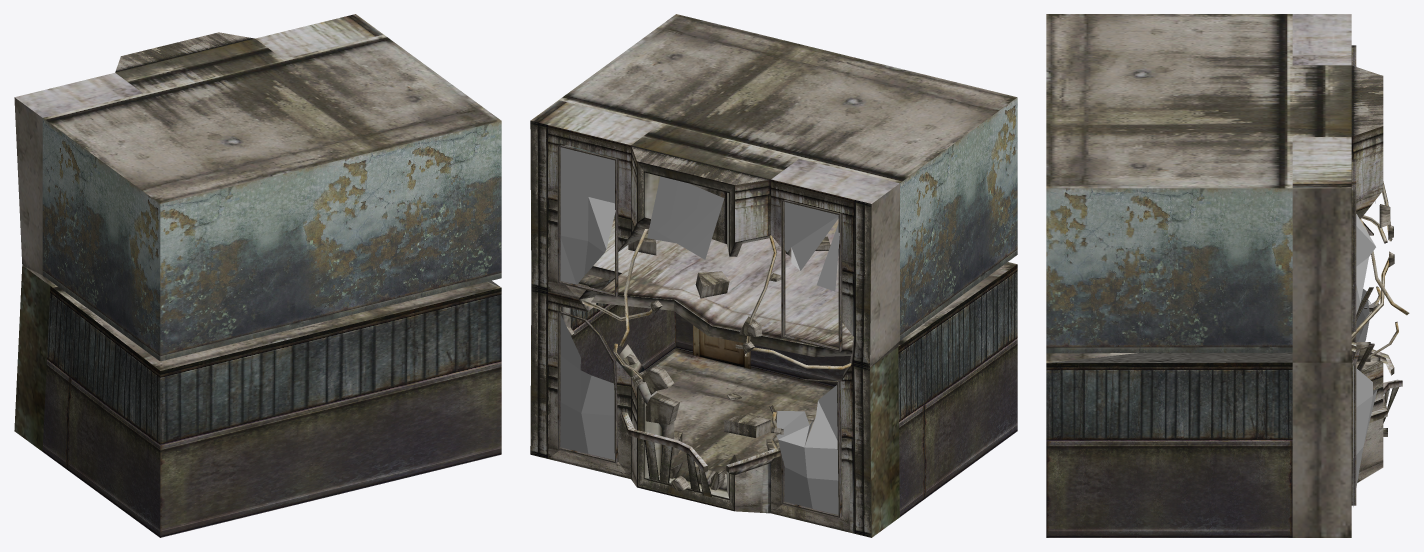
Rendered from Store_front_10_C.fbx.
The picture shows the model from 3 angles, left to right: view 1: azimuth 30°, elevation 25°; view 2: azimuth 150°, elevation 25°; view 3: azimuth 270°, elevation 25°; orthographic projection. The views are drawn at different scales.
Parts seen in each view (by area): view 1: Store_front_10_C; view 2: Store_front_10_C; view 3: Store_front_10_C.
Part boxes in pixels (left/top/right/bottom): Store_front_10_C: left=14, top=14, right=501, bottom=537; Store_front_10_C: left=530, top=14, right=1017, bottom=537; Store_front_10_C: left=1046, top=14, right=1409, bottom=537.
Size of the model in its own units: 700 by 657 by 617.
